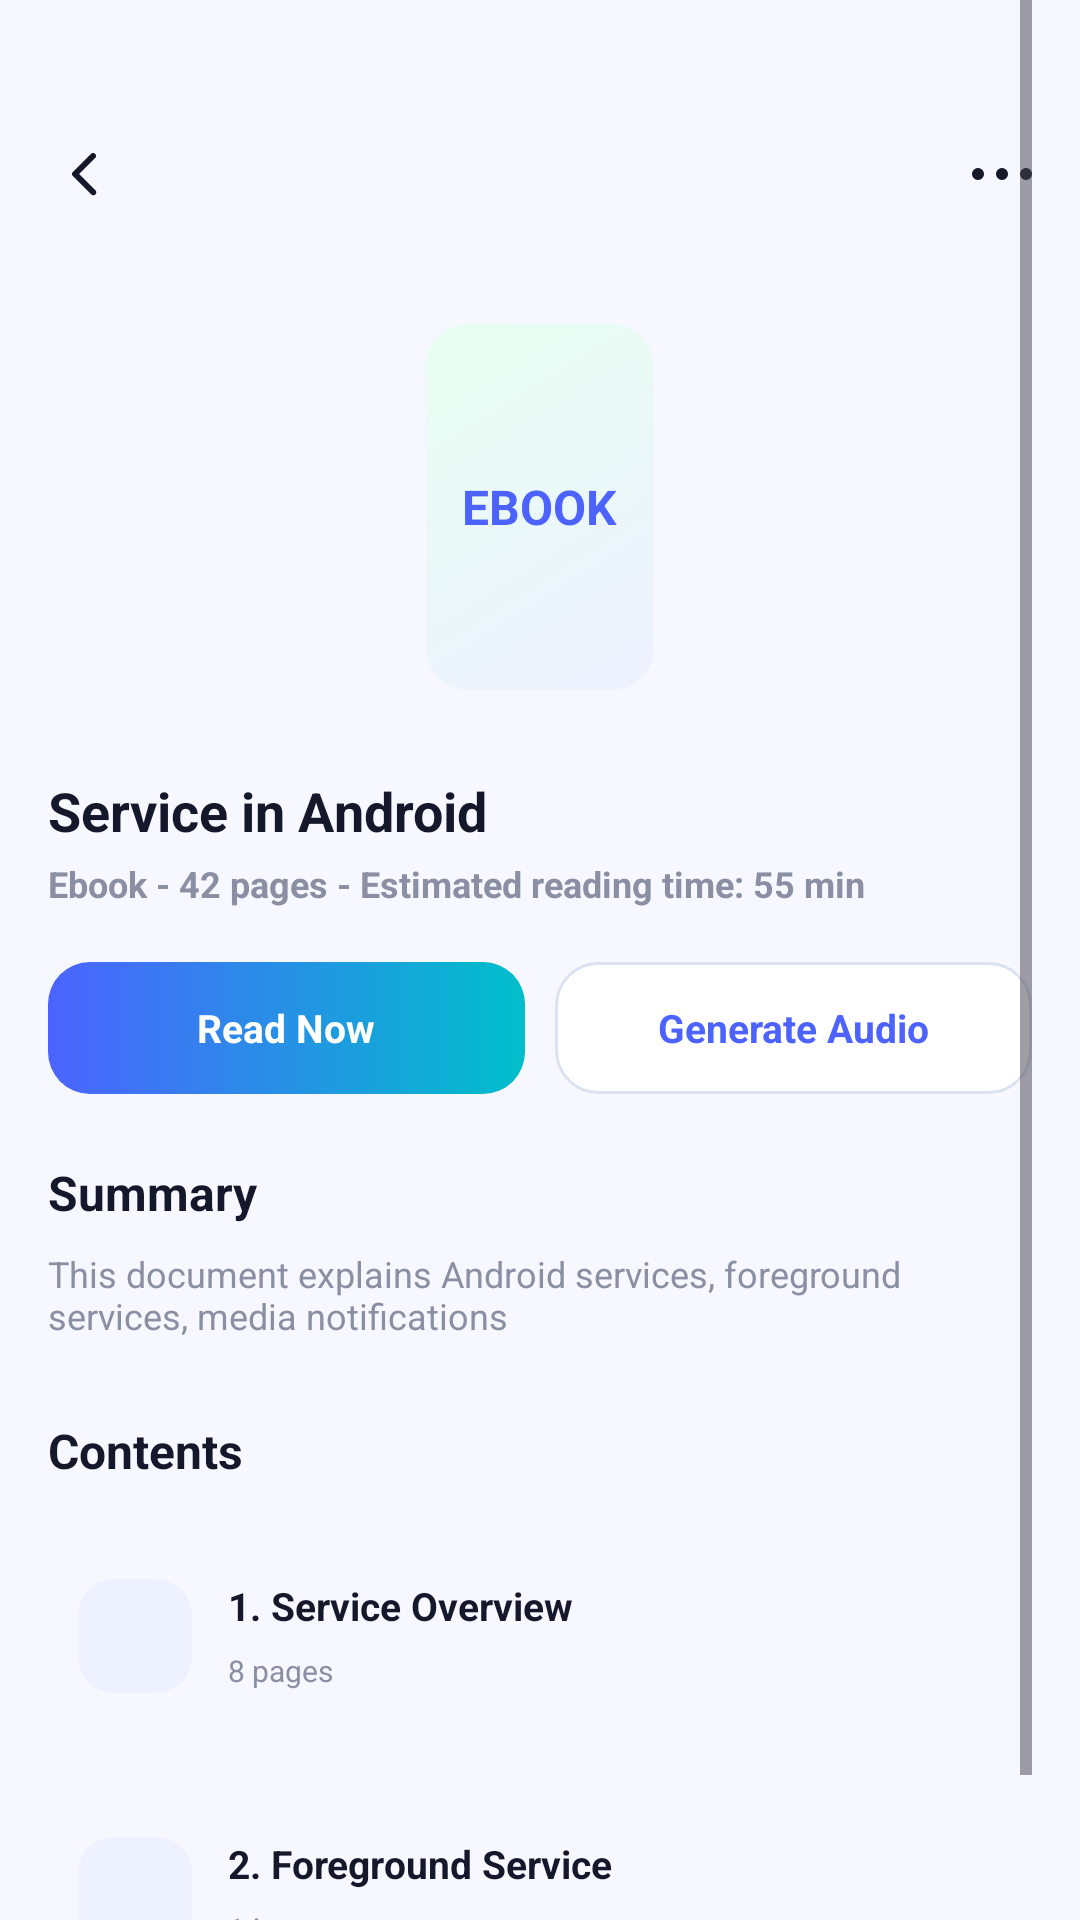

Named icons in this screenshot (1080px×1920px) and their bounding boxes, box(x1, y1, x2, y2):
Back: box(72, 153, 97, 196)
